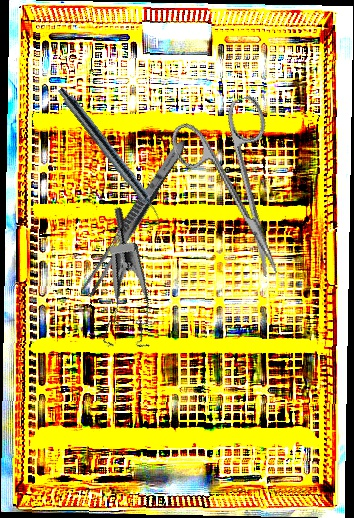Dressing Forceps: (78, 135, 191, 301)
Handpiece: (52, 84, 170, 228)
Iris Scissors: (165, 93, 314, 292)
Speculum: (58, 205, 175, 362)
